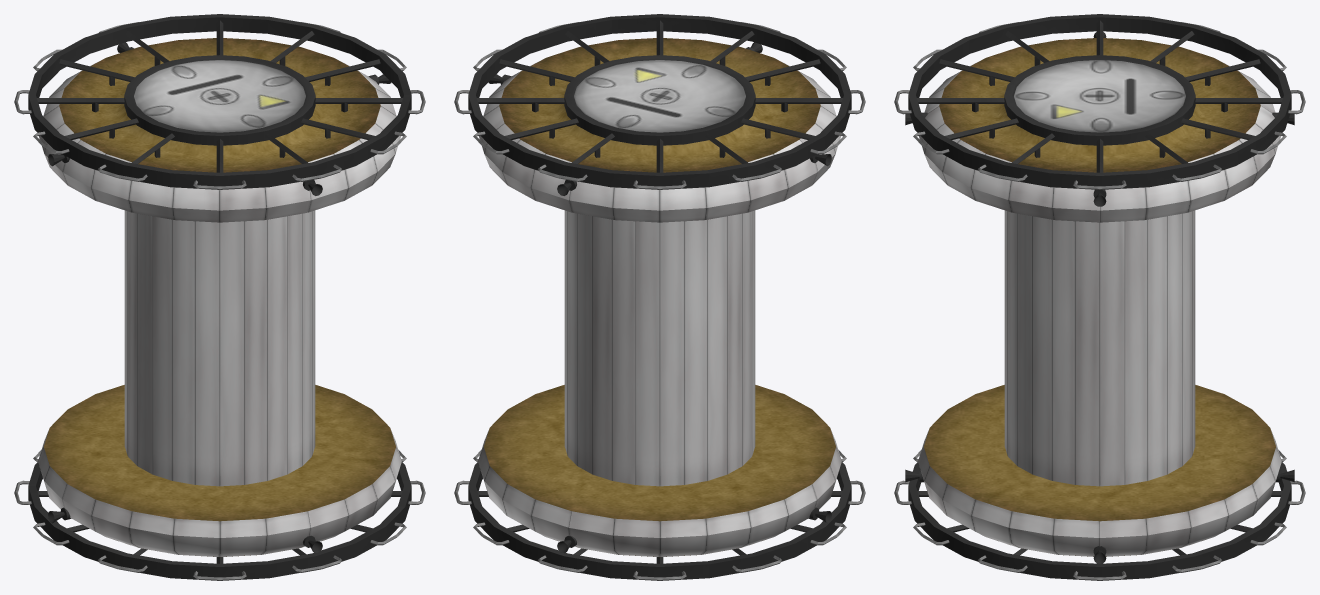
File: Spindle.FBX
3 renders of one model, left to right at view 1: azimuth 30°, elevation 25°; view 2: azimuth 150°, elevation 25°; view 3: azimuth 270°, elevation 25°, orthographic.
Parts seen in each view (by area): view 1: Cylinder002, EndCap001, EndCap008, StructuralRing001, StructuralRing002; view 2: Cylinder002, EndCap001, EndCap008, StructuralRing001, StructuralRing002; view 3: Cylinder002, EndCap001, EndCap008, StructuralRing001, StructuralRing002.
Part boxes in pixels (x1,y1,x2,y2): Cylinder002: (124, 210, 315, 486); EndCap001: (39, 38, 400, 222); EndCap008: (38, 385, 401, 557); StructuralRing001: (28, 14, 411, 189); StructuralRing002: (28, 462, 411, 580); Cylinder002: (564, 210, 755, 486); EndCap001: (479, 38, 840, 222); EndCap008: (478, 385, 841, 557); StructuralRing001: (468, 14, 851, 189); StructuralRing002: (468, 462, 851, 580); Cylinder002: (1004, 210, 1195, 486); EndCap001: (919, 38, 1280, 222); EndCap008: (918, 385, 1281, 556); StructuralRing001: (908, 14, 1291, 189); StructuralRing002: (908, 462, 1291, 580).
Size of what is drawn, in the model's own units: 2.68 by 2.68 by 2.91.
1 material, 1 textured.
